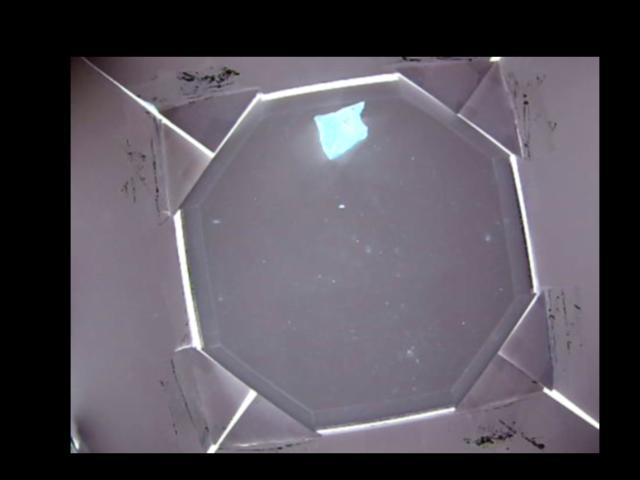Brisk: (314, 101, 368, 157)
